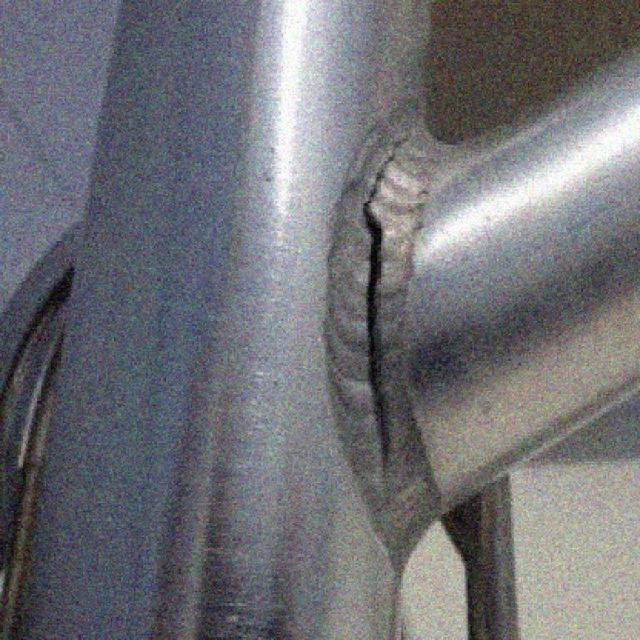crack: (365, 211, 391, 479), (366, 145, 397, 208)
